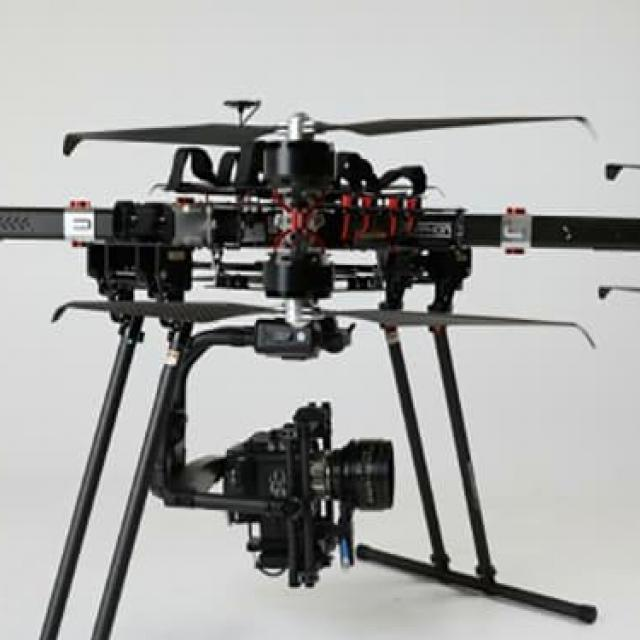drone: (0, 53, 640, 505)
